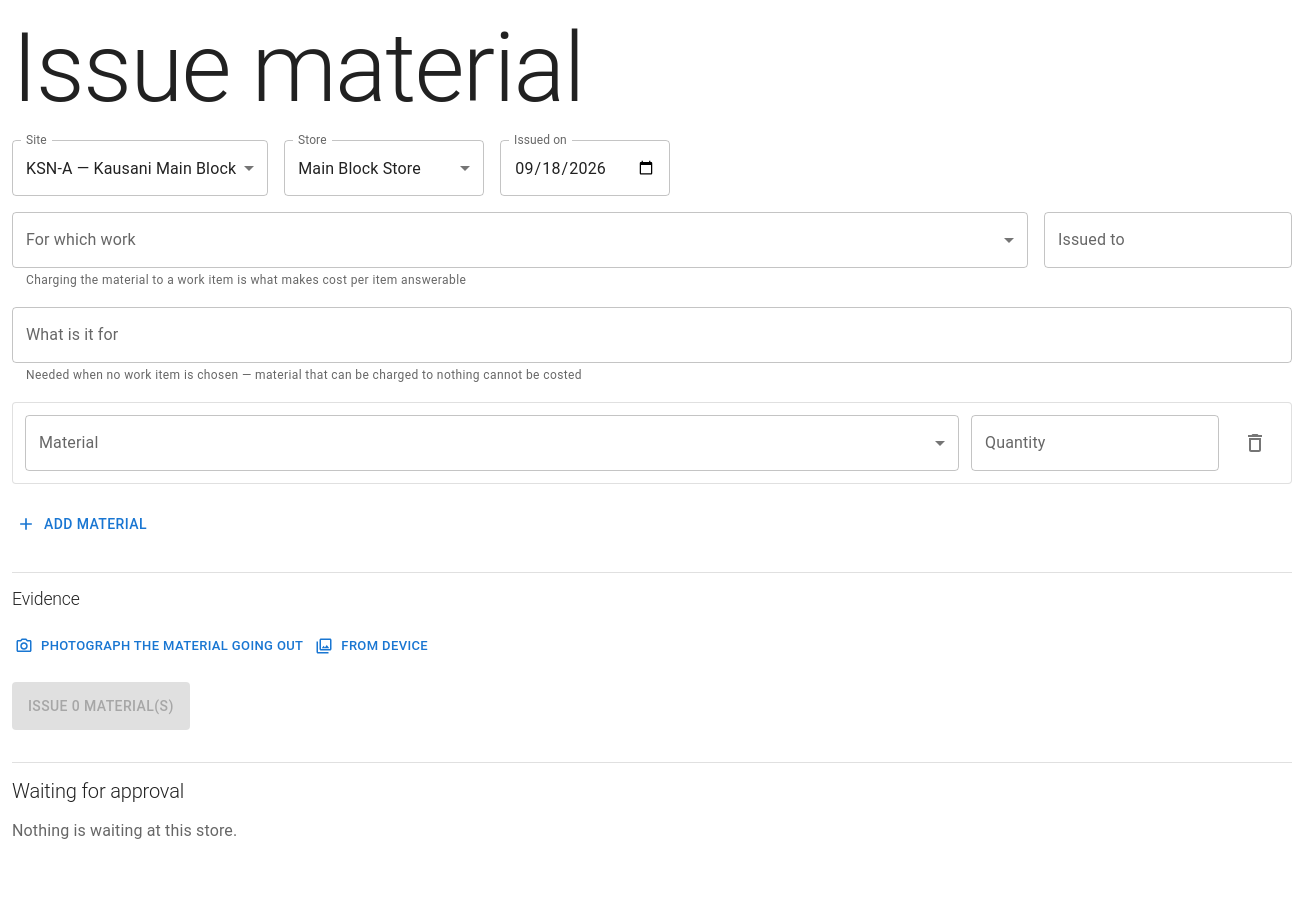
Test: IssueMaterialPage › offers only what the store actually holds, with the quantity alongside
Click the dropdown named "Material" in the row of "Quantity": (492, 443) [25,415,959,471]
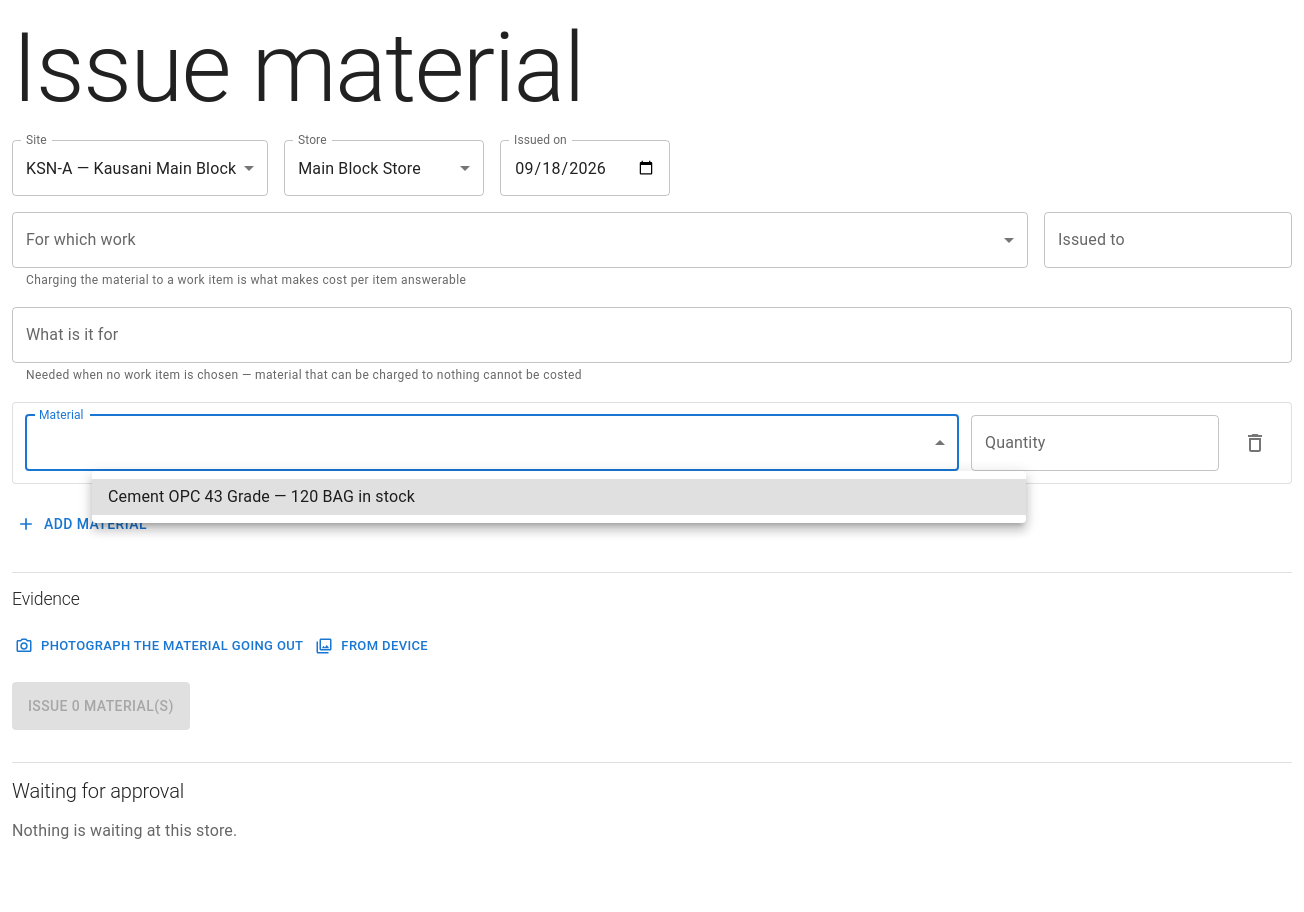
Now the number of options is 1, box [92,479,1026,515]
Now the option shows "Cement OPC 43 Grade", box [92,479,1026,515]
Now the option shows "120 BAG in stock", box [92,479,1026,515]
